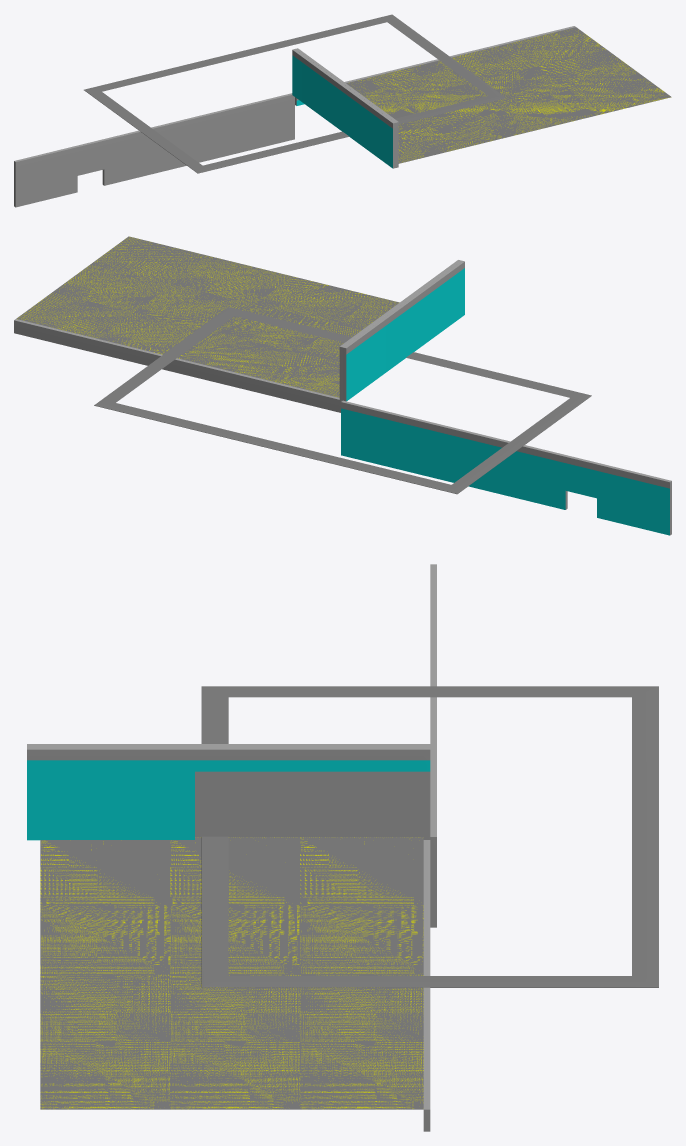
The model's file is building.fbx.
The picture shows the model from 3 angles, top to bottom: view 1: azimuth 30°, elevation 25°; view 2: azimuth 150°, elevation 25°; view 3: azimuth 270°, elevation 25°; orthographic projection. The views are drawn at different scales.
Parts seen in each view (by area): view 1: roof, wall_2, ceiling, blind_spot, wall_3, wall_1, wall_4; view 2: roof, wall_2, ceiling, blind_spot, wall_3, wall_1, wall_4; view 3: roof, ceiling, blind_spot, wall_4, wall_3, wall_2, wall_1.
Part boxes in pixels (bbox=[...]): roof: bbox=[346, 27, 671, 163]; wall_2: bbox=[14, 93, 294, 207]; ceiling: bbox=[358, 30, 668, 162]; blind_spot: bbox=[84, 14, 506, 173]; wall_3: bbox=[292, 49, 395, 168]; wall_1: bbox=[295, 26, 575, 105]; wall_4: bbox=[295, 48, 398, 167]; roof: bbox=[16, 236, 399, 397]; wall_2: bbox=[341, 400, 671, 535]; ceiling: bbox=[17, 237, 395, 396]; blind_spot: bbox=[94, 307, 591, 494]; wall_3: bbox=[343, 260, 464, 401]; wall_1: bbox=[14, 319, 342, 412]; wall_4: bbox=[339, 260, 461, 400]; roof: bbox=[40, 837, 423, 1109]; ceiling: bbox=[40, 837, 423, 1109]; blind_spot: bbox=[201, 686, 658, 987]; wall_4: bbox=[27, 746, 430, 840]; wall_3: bbox=[27, 744, 430, 836]; wall_2: bbox=[430, 564, 436, 927]; wall_1: bbox=[423, 840, 430, 1131].
Bounding box in the file's own units: 9600 × 1485 × 4700.
